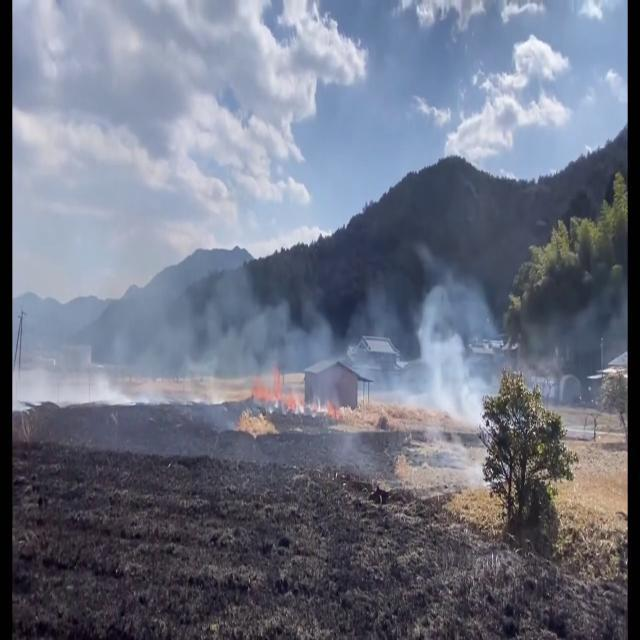Smoke: (342, 261, 621, 506), (58, 242, 336, 413)
